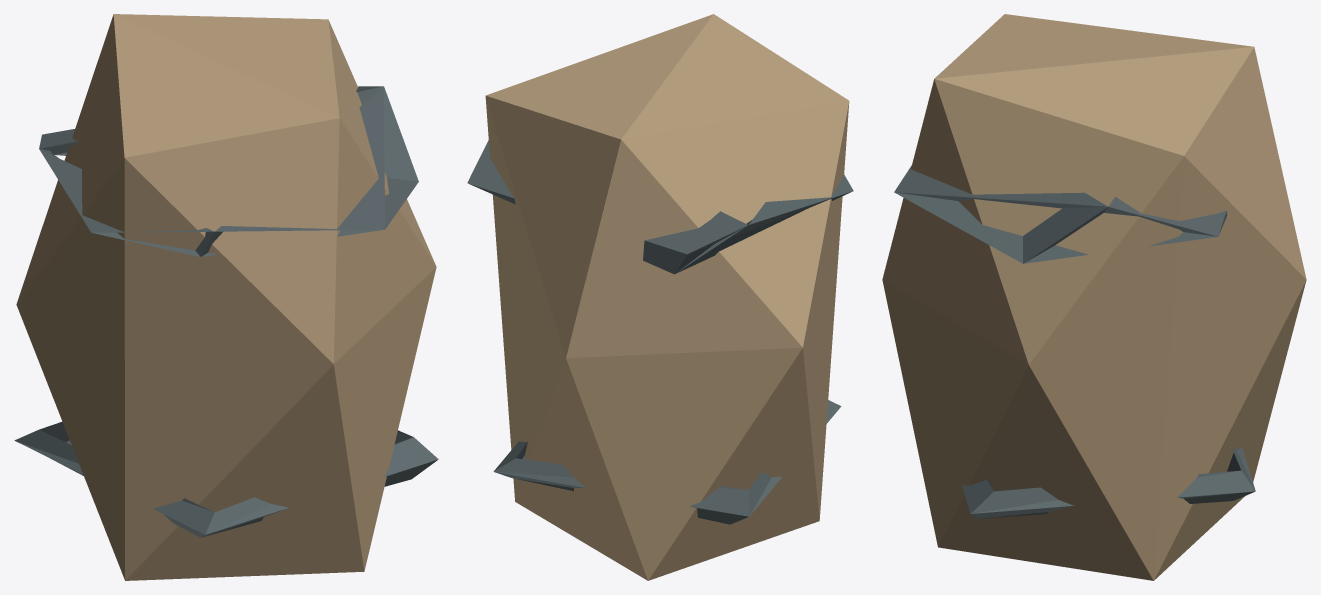
Rendered from beach.barrel.lod2.glb.
3 views of the same model, side by side, from view 1: azimuth 30°, elevation 25°; view 2: azimuth 150°, elevation 25°; view 3: azimuth 270°, elevation 25° (orthographic). The views are drawn at different scales.
Parts seen in each view (by area): view 1: Staves, Hoop.001, Hoop; view 2: Staves, Hoop.001, Hoop; view 3: Staves, Hoop.001, Hoop.
Part boxes in pixels (left/top/right/bottom): Staves: left=16, top=14, right=436, bottom=580; Hoop.001: left=39, top=86, right=418, bottom=256; Hoop: left=14, top=421, right=438, bottom=537; Staves: left=485, top=14, right=849, bottom=580; Hoop.001: left=467, top=140, right=853, bottom=274; Hoop: left=493, top=400, right=841, bottom=524; Staves: left=882, top=14, right=1306, bottom=580; Hoop.001: left=894, top=165, right=1227, bottom=263; Hoop: left=962, top=448, right=1255, bottom=518.
Size of the model in its own units: 0.7256 by 0.9068 by 0.763.
